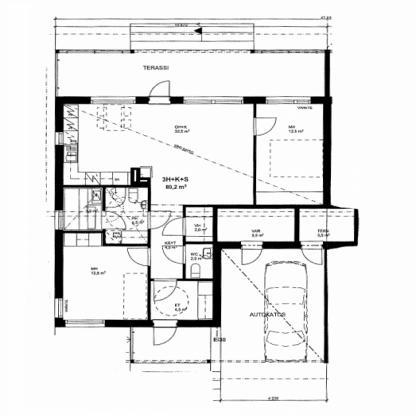bathroom: (103, 185, 149, 243), (185, 244, 217, 280)
door: (150, 317, 186, 348), (235, 236, 269, 267), (295, 238, 328, 268), (146, 77, 177, 107), (122, 244, 156, 271), (247, 114, 281, 140), (160, 243, 190, 272), (160, 215, 190, 240), (141, 209, 173, 232)
perimeter: (61, 99, 324, 324)
window: (179, 94, 250, 109), (262, 93, 320, 109), (87, 92, 140, 108), (60, 316, 110, 329), (48, 295, 68, 320), (49, 209, 70, 228), (52, 132, 66, 150)
